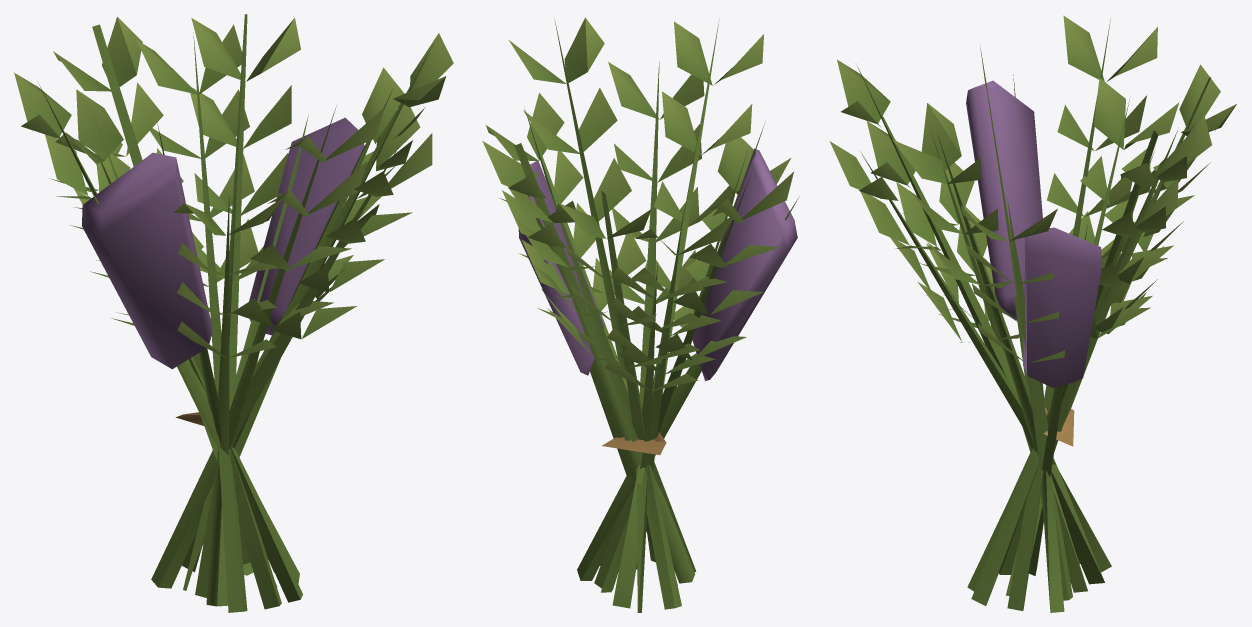
Rendered from herb_bundle.glb.
The picture shows the model from 3 angles, left to right: view 1: azimuth 30°, elevation 25°; view 2: azimuth 150°, elevation 25°; view 3: azimuth 270°, elevation 25°; orthographic projection. The views are drawn at different scales.
Parts seen in each view (by area): view 1: Plant; view 2: Plant; view 3: Plant.
Boxes of the visible parts, left/top/right/bottom form: Plant: left=14, top=14, right=453, bottom=612; Plant: left=482, top=17, right=799, bottom=612; Plant: left=829, top=15, right=1236, bottom=612.
Bounding box in the file's own units: 0.2349 × 0.3434 × 0.2378.
